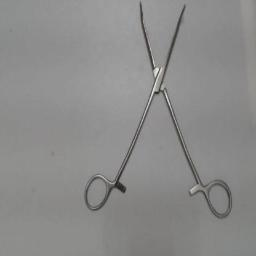Lahey Forceps: (82, 2, 234, 222)
